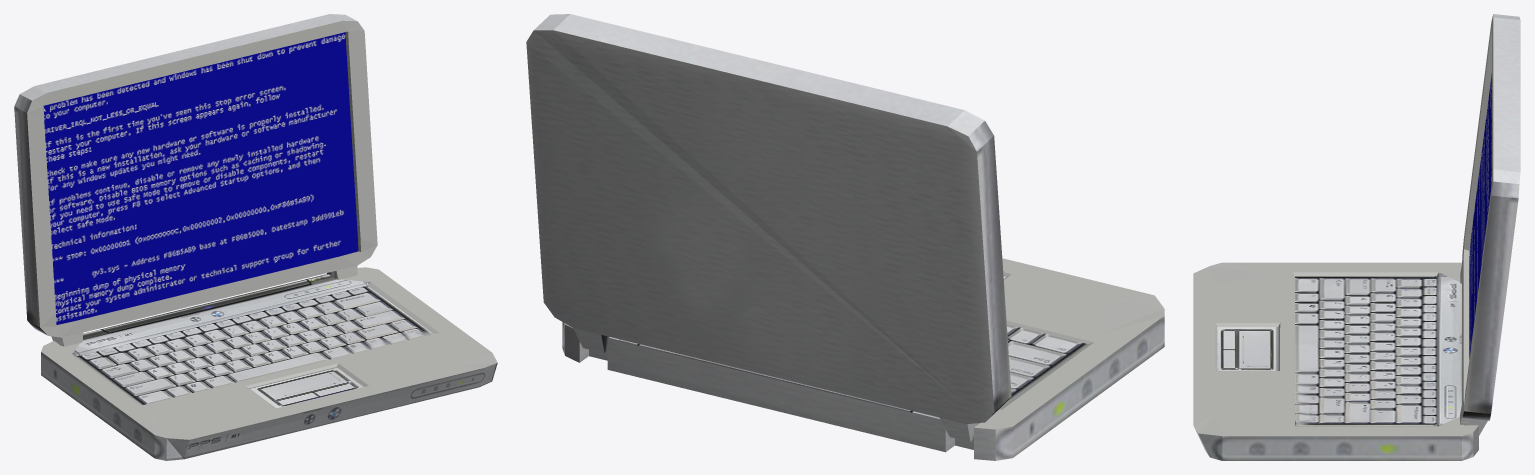
The model's file is laptop 1.fbx.
3 views of the same model, side by side, from view 1: azimuth 30°, elevation 25°; view 2: azimuth 150°, elevation 25°; view 3: azimuth 270°, elevation 25° (orthographic). The views are drawn at different scales.
Parts seen in each view (by area): view 1: polySurface1, screen; view 2: polySurface1; view 3: polySurface1, screen.
Boxes of the visible parts, x1=… form: polySurface1: x1=14, y1=14, x2=497, y2=460; screen: x1=43, y1=32, x2=358, y2=324; polySurface1: x1=526, y1=14, x2=1164, y2=460; polySurface1: x1=1193, y1=14, x2=1520, y2=460; screen: x1=1469, y1=73, x2=1491, y2=358.
Size of the model in its own units: 1.5 by 1.13 by 1.19.
